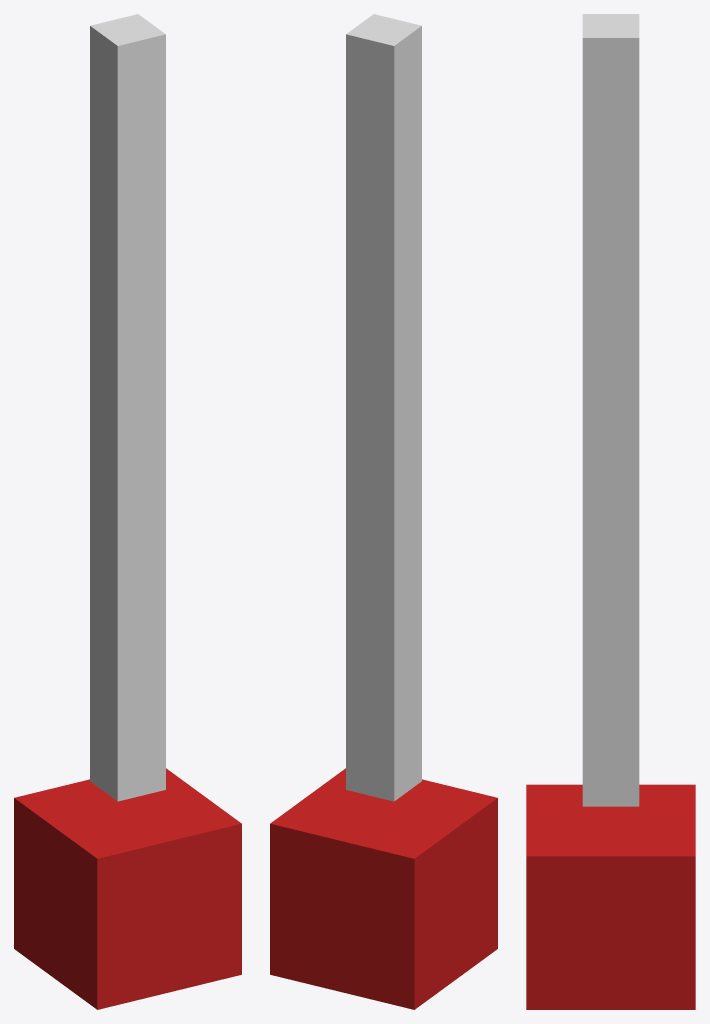
File: head.glb
The picture shows the model from 3 angles, left to right: view 1: azimuth 30°, elevation 25°; view 2: azimuth 150°, elevation 25°; view 3: azimuth 270°, elevation 25°; orthographic projection.
Parts seen in each view (by area): view 1: antenna, visor; view 2: antenna, visor; view 3: antenna, visor.
Part boxes in pixels (left/top/right/bottom): antenna: left=90, top=14, right=165, bottom=801; visor: left=14, top=768, right=241, bottom=1009; antenna: left=346, top=14, right=421, bottom=801; visor: left=270, top=768, right=497, bottom=1009; antenna: left=582, top=14, right=639, bottom=806; visor: left=526, top=784, right=695, bottom=1009.
Bounding box in the file's own units: 0.06 × 0.37 × 0.06.
